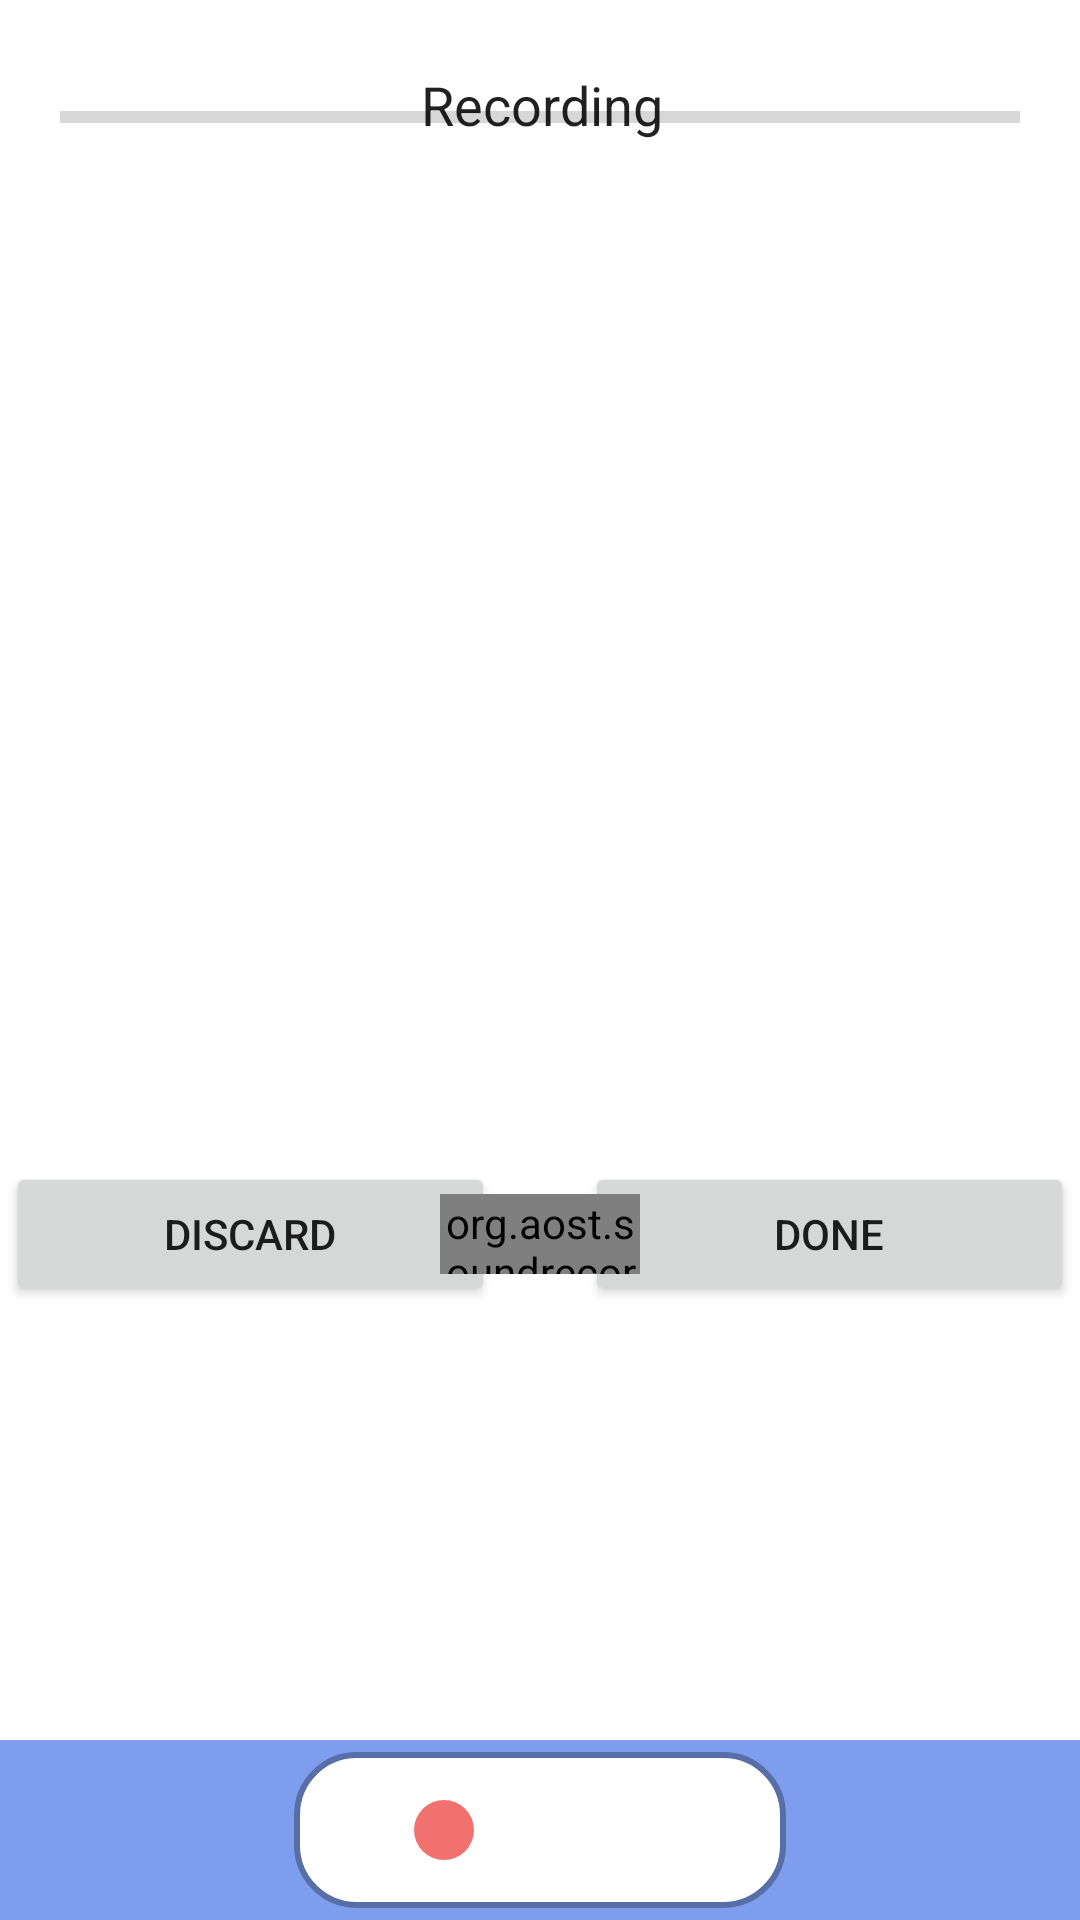

Locate icon controls on the screen. Image size 1080px×1920px, boxes as {"left": x1, "top": y1, "right": x2, "bottom": y2}.
record: {"left": 414, "top": 1800, "right": 474, "bottom": 1860}
